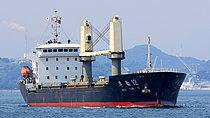Ship: (14, 8, 190, 112)
